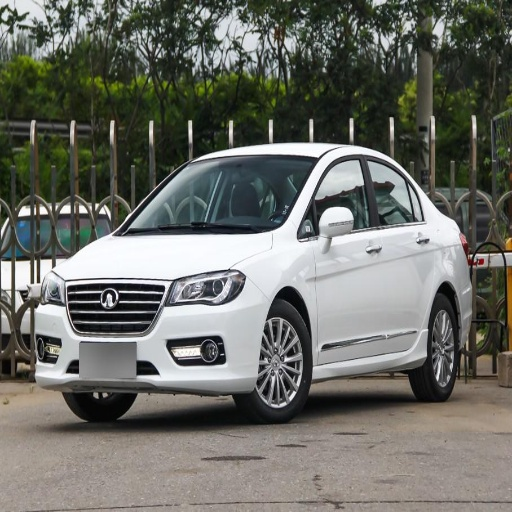back_left_door: (364, 154, 439, 352)
front_bumper: (31, 276, 270, 394)
front_glass: (114, 156, 318, 235)
front_left_door: (306, 153, 388, 361)
